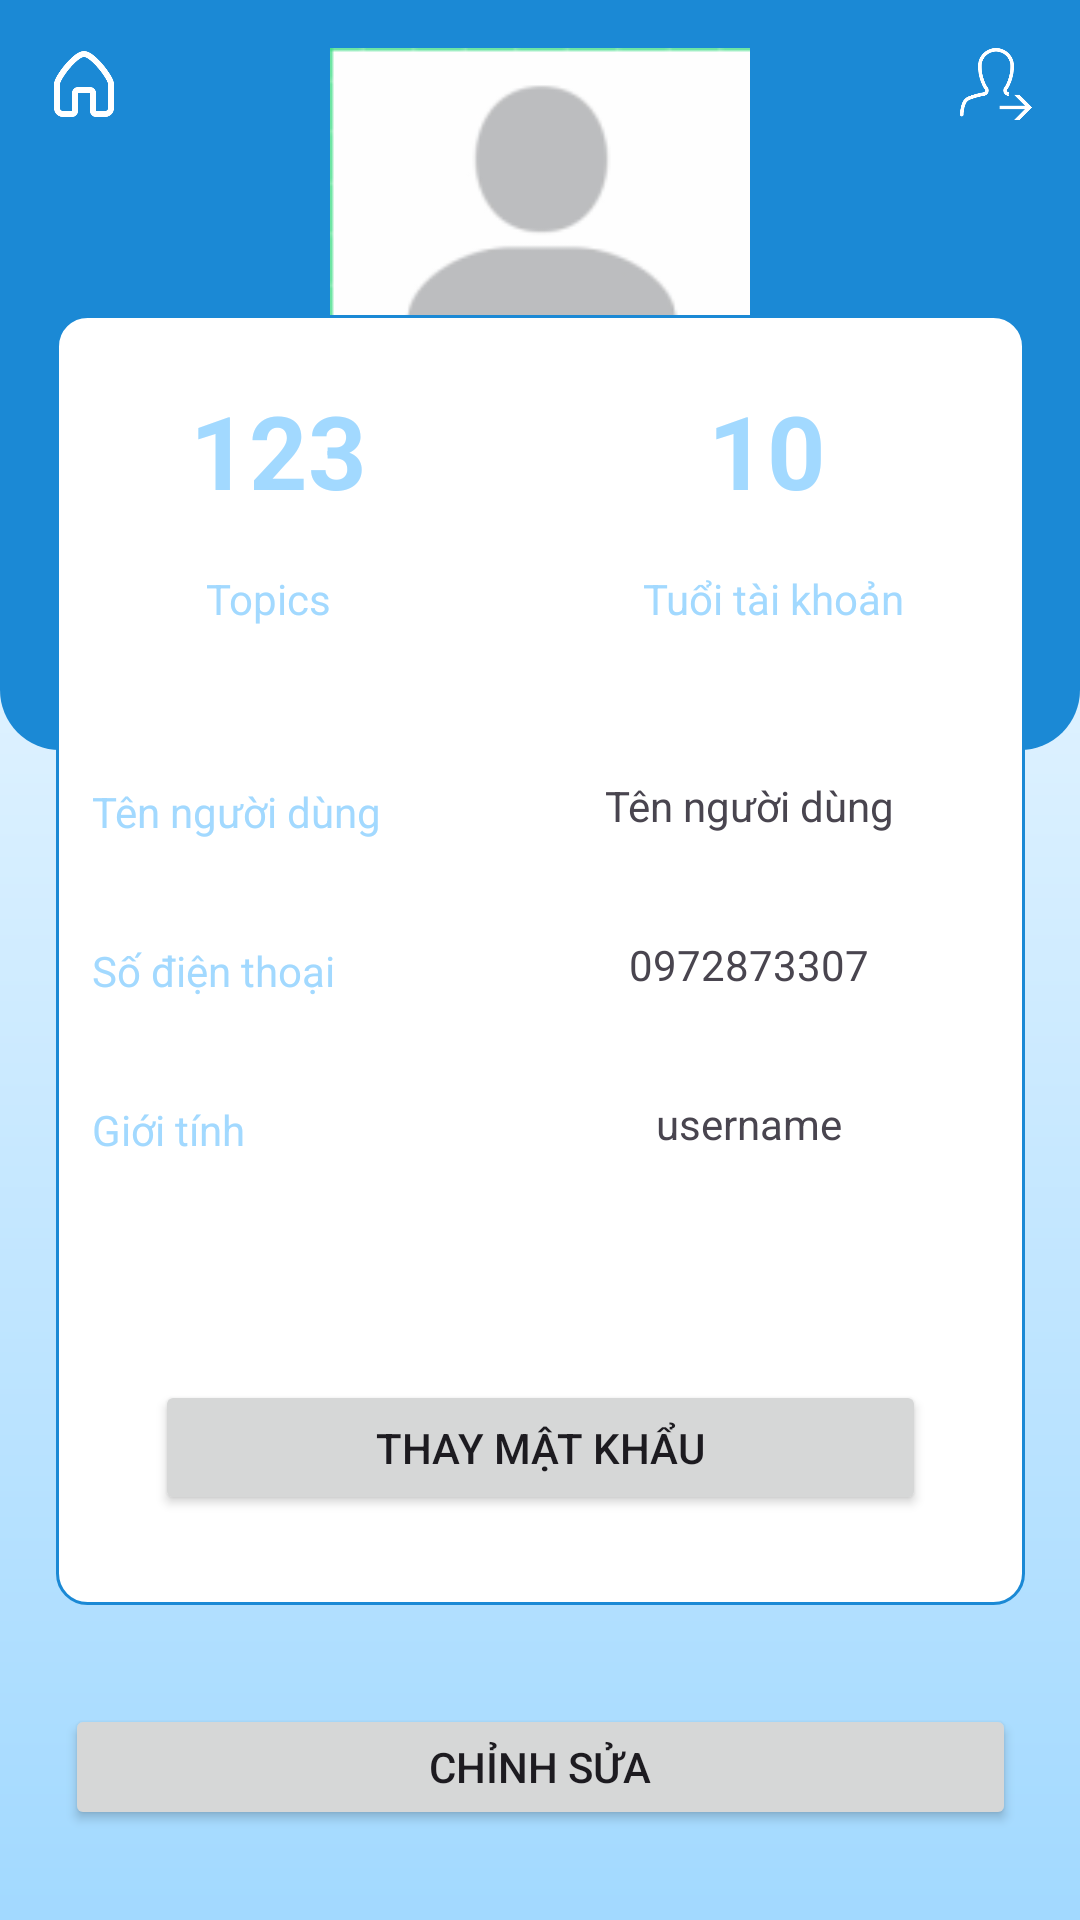

Locate icon controls on the screen. Image size 1080 x 1920, boxes as (x1, y1, x2, y2).
home: (54, 51, 114, 117)
